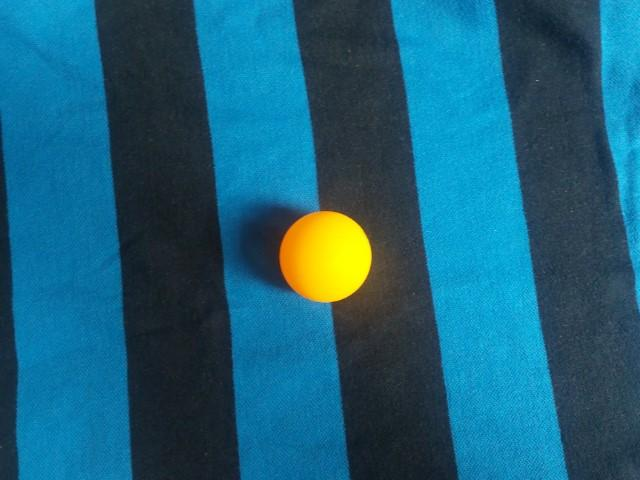oball: (262, 174, 367, 276)
